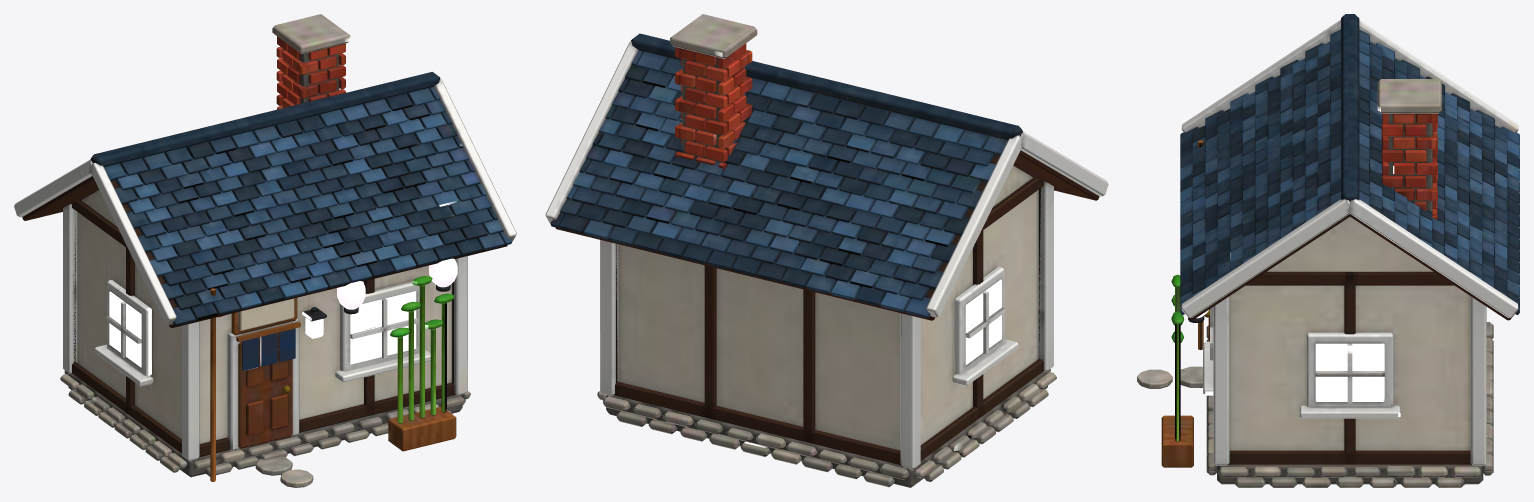
Rendered from sushi_bar.glb.
The picture shows the model from 3 angles, left to right: view 1: azimuth 30°, elevation 25°; view 2: azimuth 150°, elevation 25°; view 3: azimuth 270°, elevation 25°; orthographic projection. The views are drawn at different scales.
Parts seen in each view (by area): view 1: sushi_bar; view 2: sushi_bar; view 3: sushi_bar.
Boxes of the visible parts, left/top/right/bottom form: sushi_bar: left=14, top=14, right=516, bottom=487; sushi_bar: left=545, top=14, right=1108, bottom=487; sushi_bar: left=1137, top=14, right=1519, bottom=487.
Bounding box in the file's own units: 1.9 × 1.73 × 1.67.
1 material, 1 textured.
